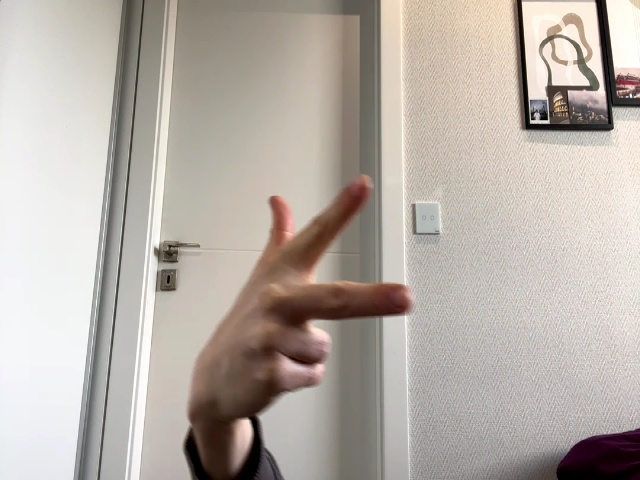K: (216, 175, 410, 417)
